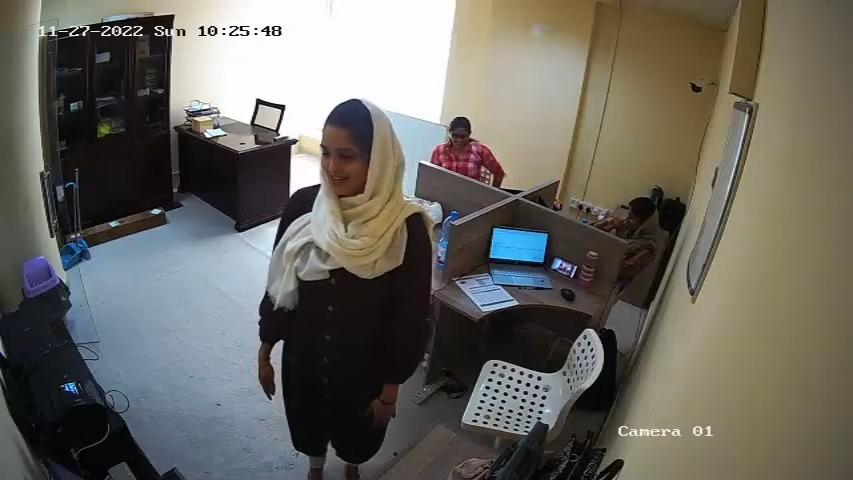no_apron: (295, 202, 396, 381)
